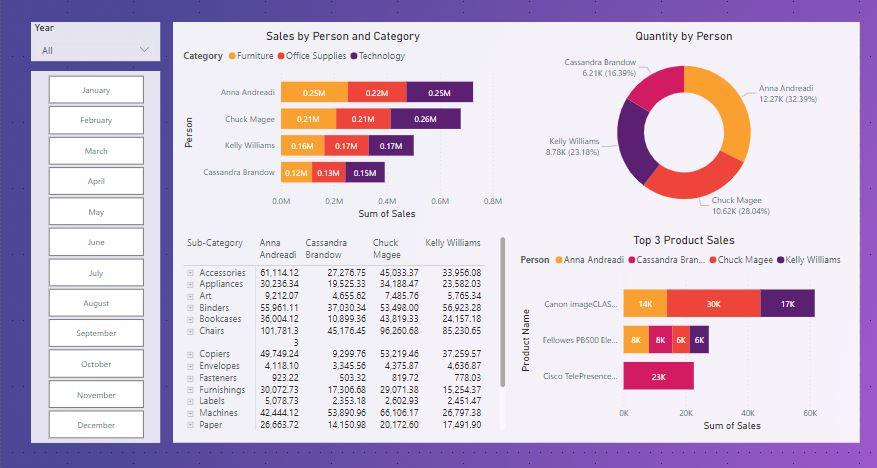

What the dashboard file says about the page in this screenshot:
{"tool":"powerbi","page":{"name":"Sales Person Performance","canvas":[1280,720],"ordinal":5},"visuals":[{"type":"basicShape","title":"West","box":[250.2,46.5,999.3,612.4],"z":0,"group":"g1"},{"type":"barChart","title":"Sales by Person and Category","fields":{"Category":["People.Person"],"Y":["Orders.Sales"],"Series":["Orders.Category"]},"box":[260.4,56.9,474.2,282.4],"z":2000,"group":"g1"},{"type":"pivotTable","fields":{"Rows":["Orders.Sub-Category","Orders.Product Name"],"Values":["Orders.Sales"],"Columns":["People.Person"]},"box":[260.1,353.9,478.5,292.4],"z":3000,"group":"g1"},{"type":"barChart","title":"Top 3  Product Sales","fields":{"Category":["Orders.Product Name","People.Person"],"Y":["Orders.Sales"],"Series":["People.Person"]},"box":[750.6,352.7,485.8,292.8],"z":4000,"group":"g1"},{"type":"slicer","title":"Year","fields":{"Values":["Orders.Order Date.Variation.Date Hierarchy.Year"]},"box":[43.6,46.5,187.6,56.7],"z":5000},{"type":"slicer","fields":{"Values":["Orders.Order Date.Variation.Date Hierarchy.Month"]},"box":[43.6,117.8,187.6,541.1],"z":6000},{"type":"donutChart","title":"Quantity by Person","fields":{"Y":["Orders.Quantity"],"Category":["People.Person"]},"box":[750.6,56.9,485.8,282.4],"z":7000,"group":"g1"},{"type":"group","id":"g1","title":"Group 1","box":[250.2,46.5,999.3,612.4],"z":7001}]}

Visuals, with their boxes on the page's 1280x720 design canvas (x1, y1, x2, y2). These are canvas units, not pixel positions in the 877x468 screenshot, which may show the page scaled, cropped or inside an application window:
"West" basicShape: (250,46,1250,659)
"Sales by Person and Category" barChart: (260,57,735,339)
pivotTable - Orders.Sub-Category x Orders.Product Name: (260,354,739,646)
"Top 3  Product Sales" barChart: (751,353,1236,646)
"Year" slicer: (44,46,231,103)
slicer - Orders.Order Date.Variation.Date Hierarchy.Month: (44,118,231,659)
"Quantity by Person" donutChart: (751,57,1236,339)
"Group 1" group: (250,46,1250,659)
